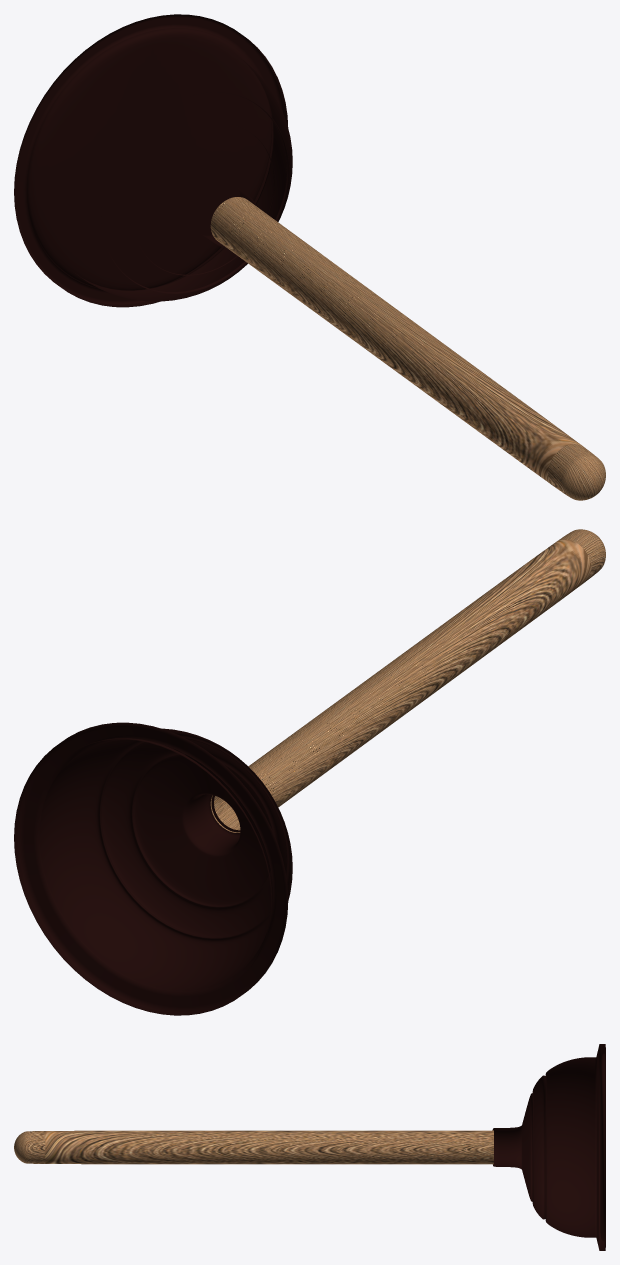
The model's file is base_plunger.obj.
3 views of the same model, one above another, from view 1: azimuth 30°, elevation 25°; view 2: azimuth 150°, elevation 25°; view 3: azimuth 270°, elevation 25° (orthographic). The views are drawn at different scales.
Parts seen in each view (by area): view 1: Plunger06_Sphere.013; view 2: Plunger06_Sphere.013; view 3: Plunger06_Sphere.013.
Boxes of the visible parts, left/top/right/bottom form: Plunger06_Sphere.013: left=14, top=14, right=605, bottom=500; Plunger06_Sphere.013: left=14, top=529, right=605, bottom=1015; Plunger06_Sphere.013: left=14, top=1044, right=605, bottom=1250.
Size of the model in its own units: 0.4856 by 0.4856 by 1.39.
Materials: 2 (1 with a texture image).
